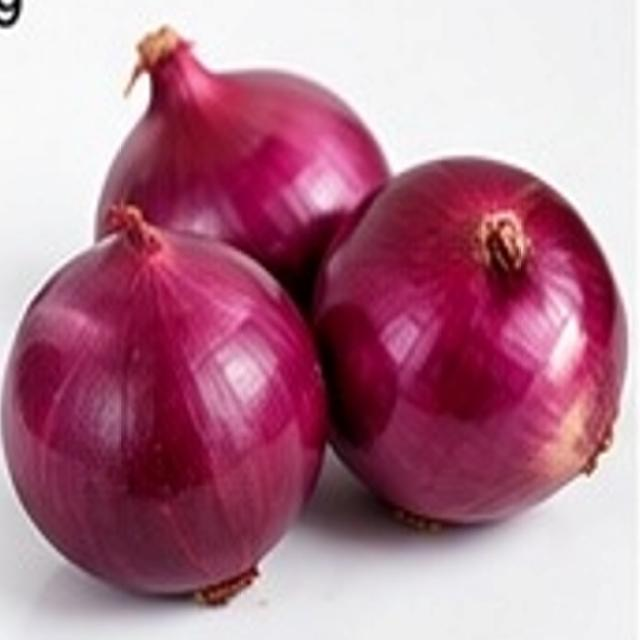healthy: (3, 209, 324, 601)
